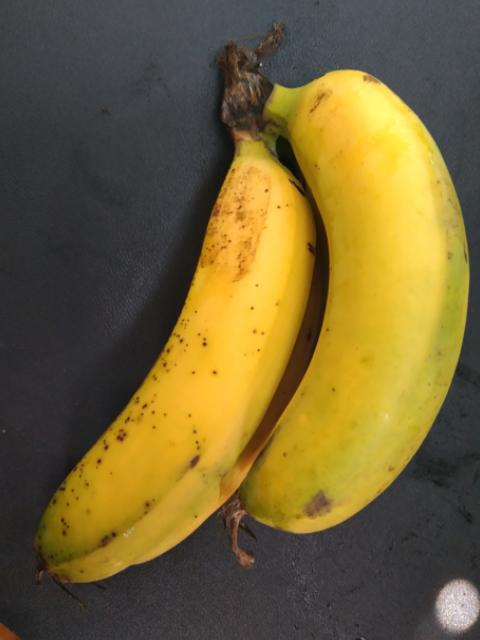freshripe: (257, 57, 479, 590)
ripe: (10, 154, 307, 596)
